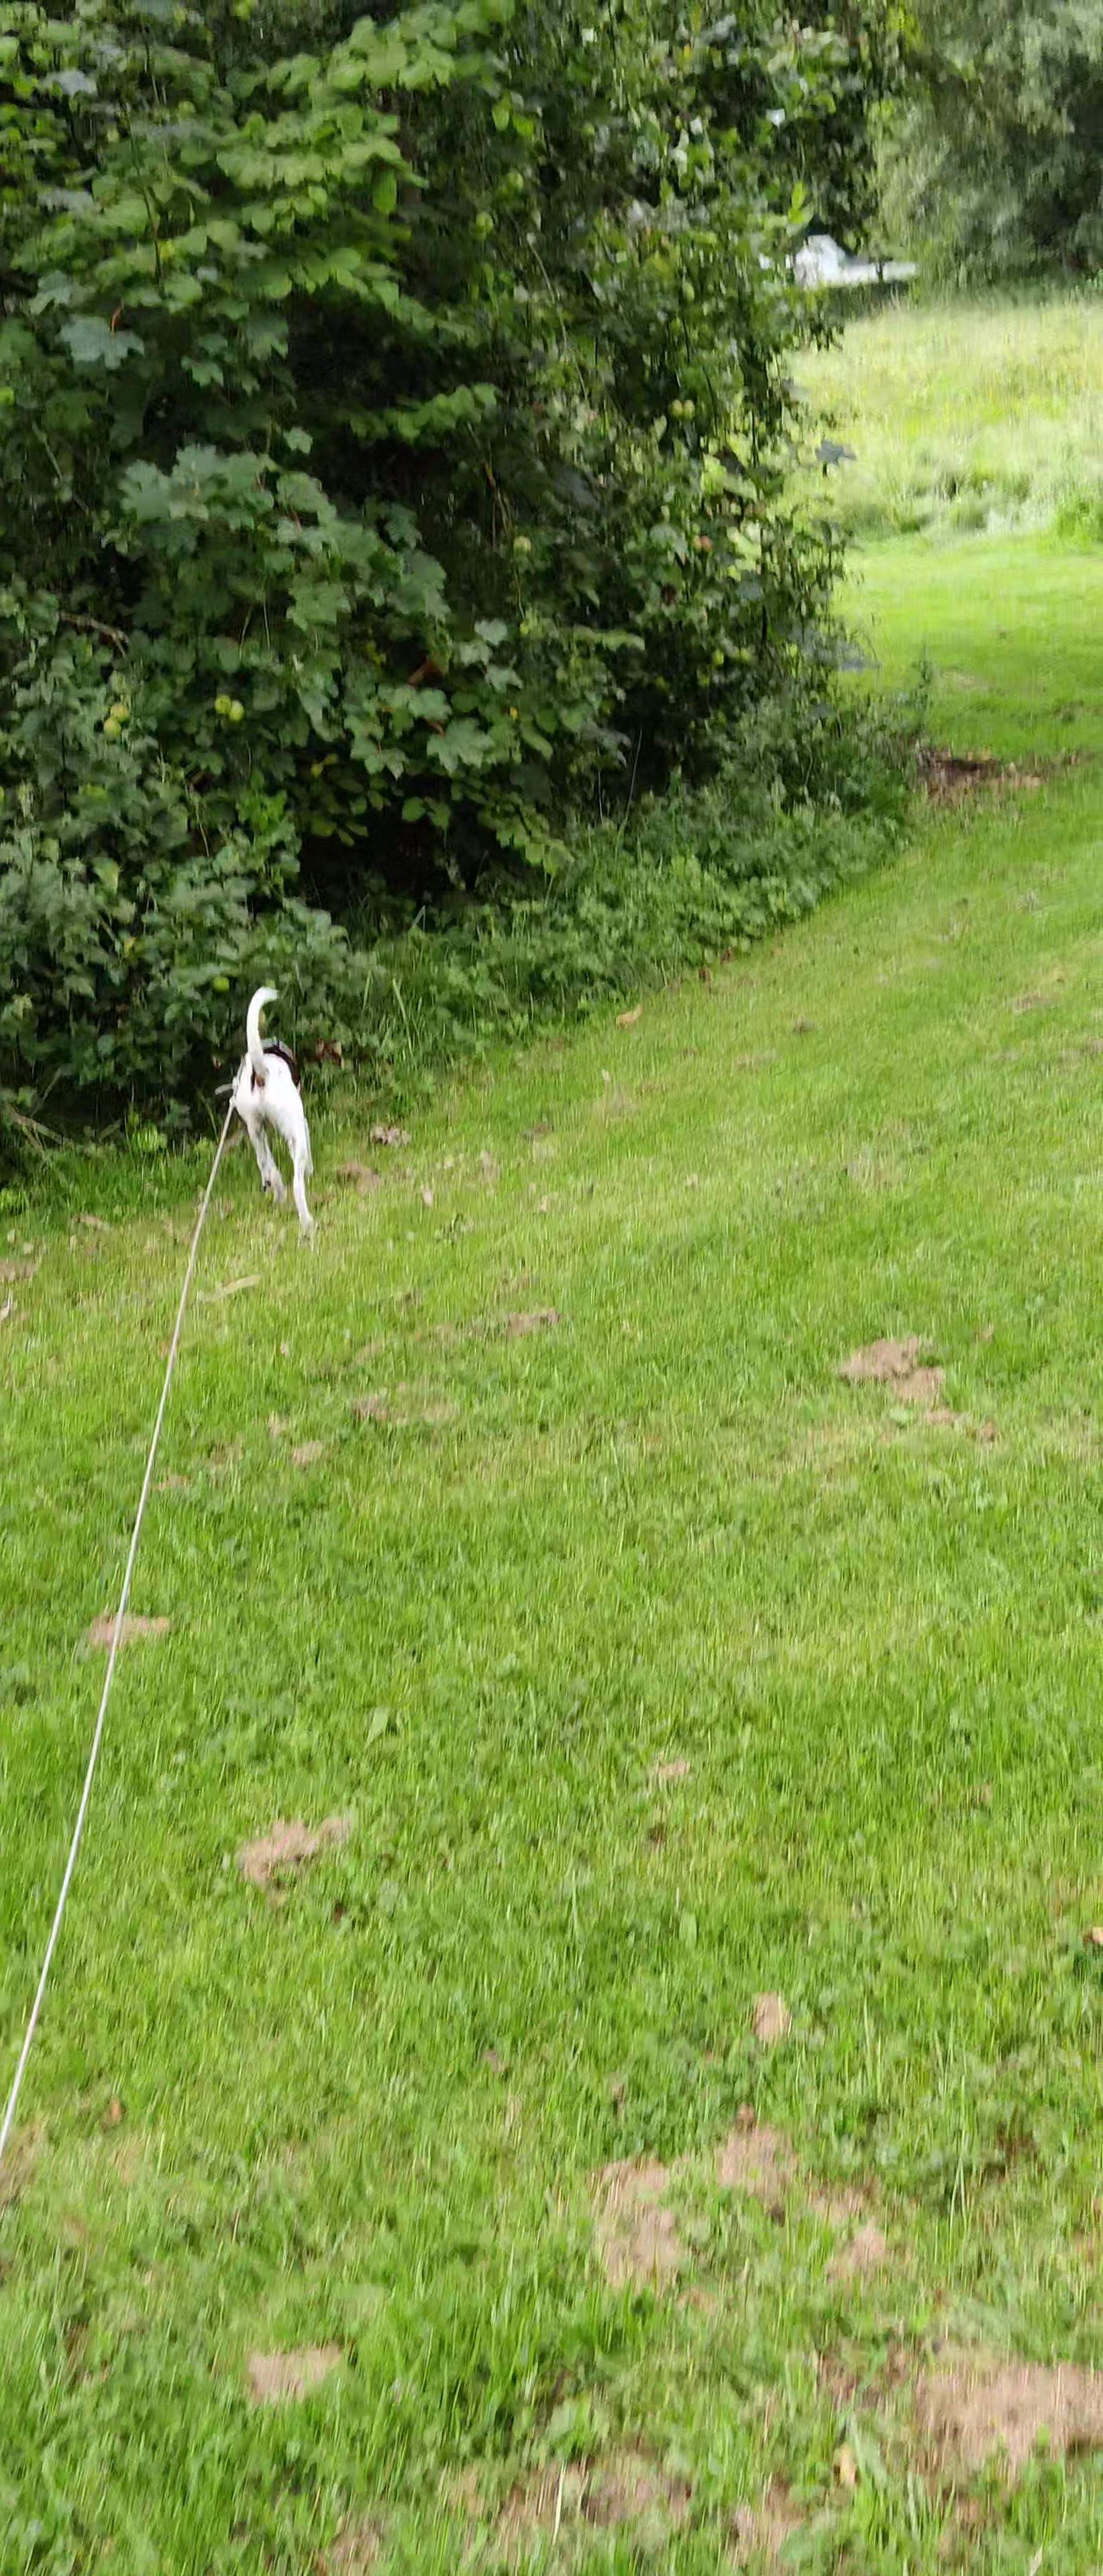Dog: (225, 981, 329, 1235)
